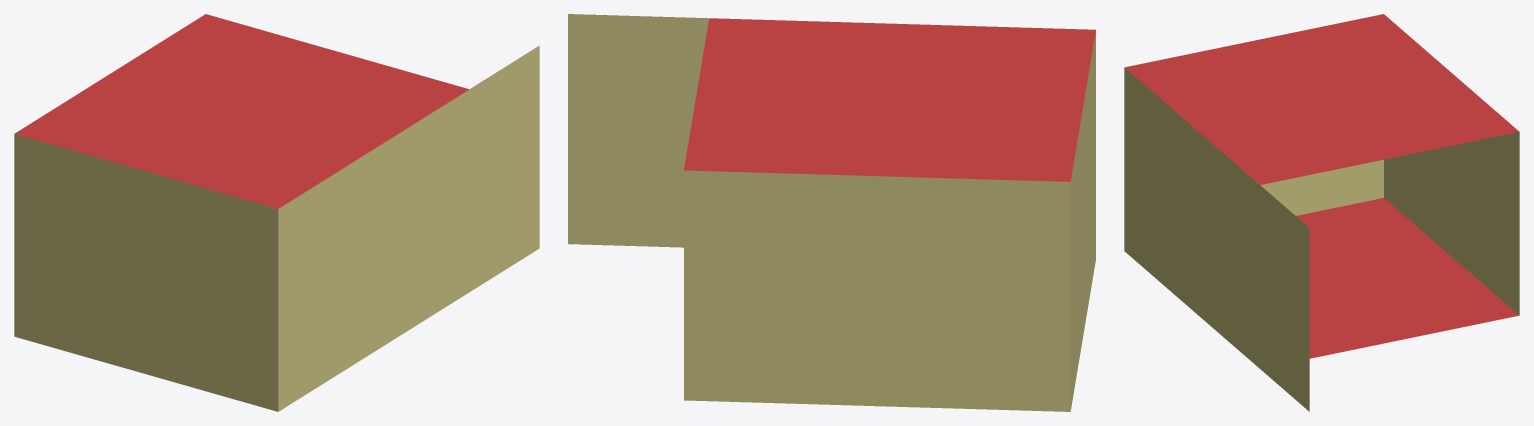
The picture shows the model from 3 angles, left to right: view 1: azimuth 30°, elevation 25°; view 2: azimuth 150°, elevation 25°; view 3: azimuth 270°, elevation 25°; orthographic projection. The views are drawn at different scales.
Size of the model in its own units: 10.9 by 8.5 by 4.37.
